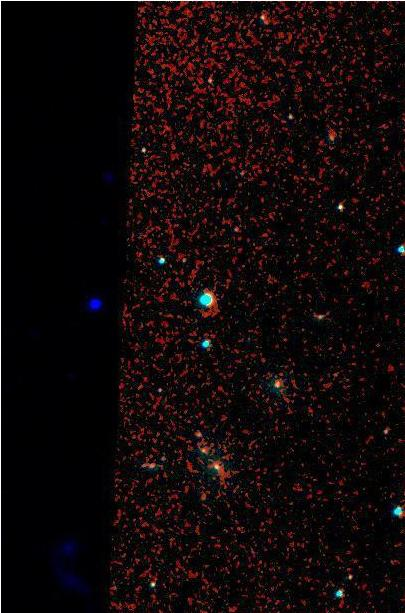star: (263, 367, 293, 397)
